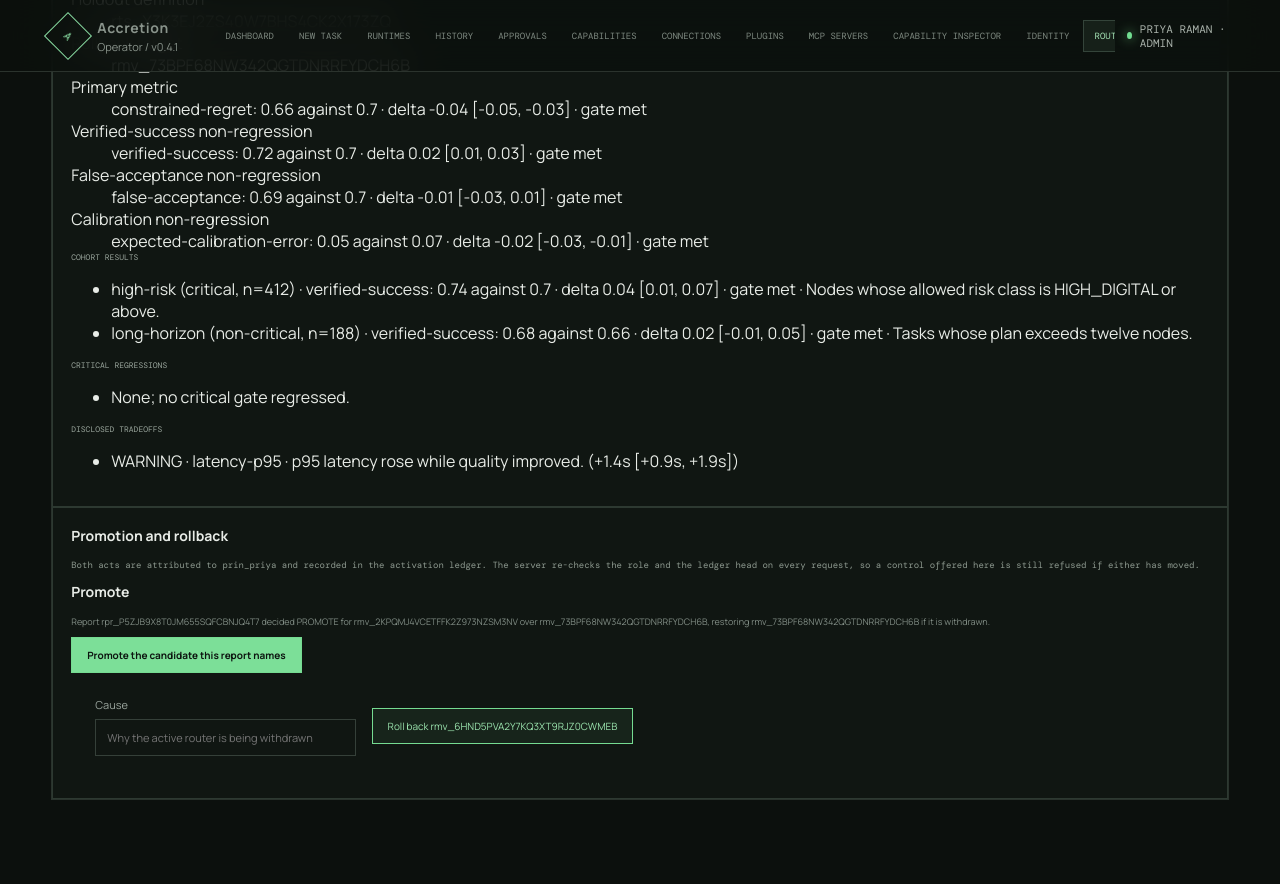
it: a refused promotion renders the server's message rather than an empty panel
This screenshot has width=1280, height=884.
(page scrolled)
Click the button "Promote the candidate this report names".
click(186, 655)  # box [71,637,302,673]
(page scrolled)
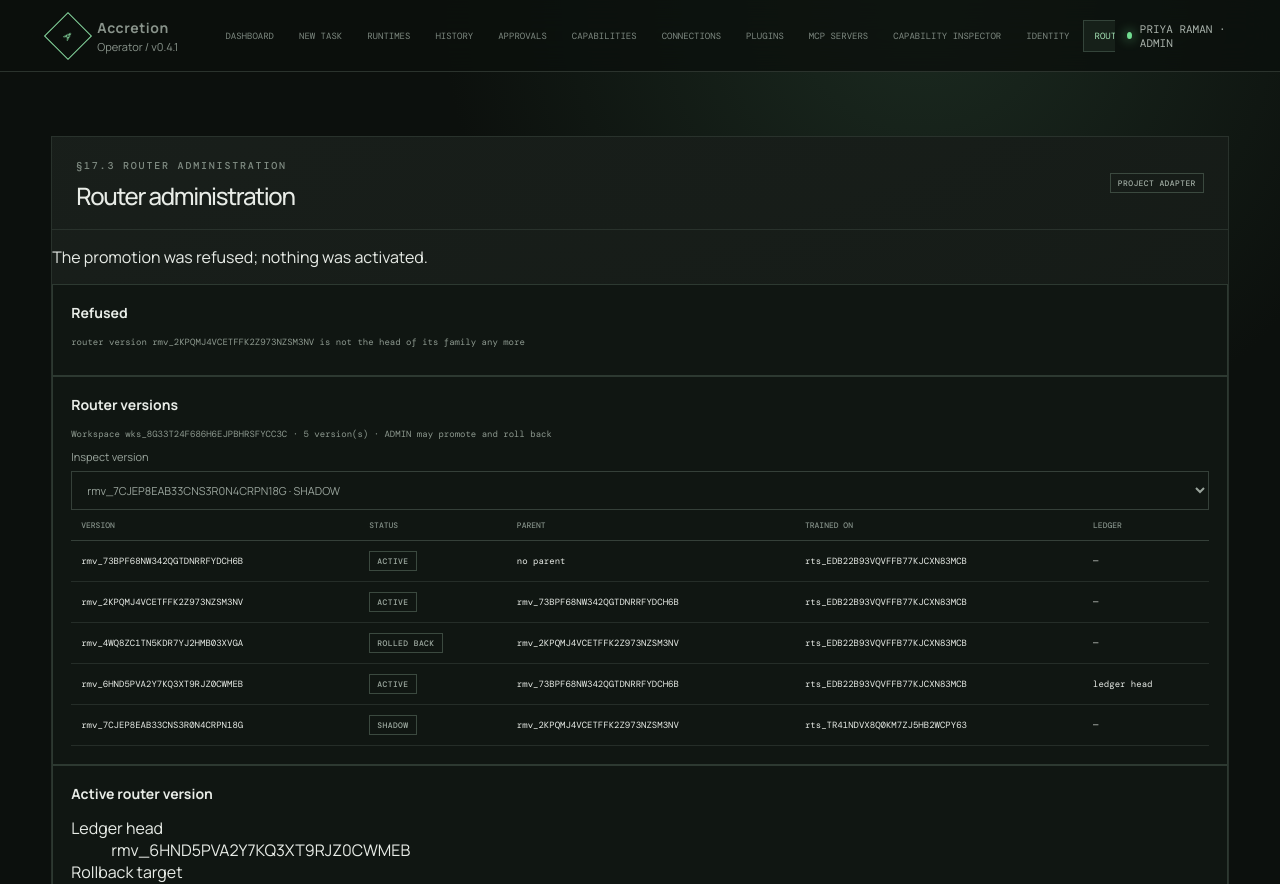
Result: the message "The promotion was refused; nothing was activated." is shown at [52,246,428,268]
